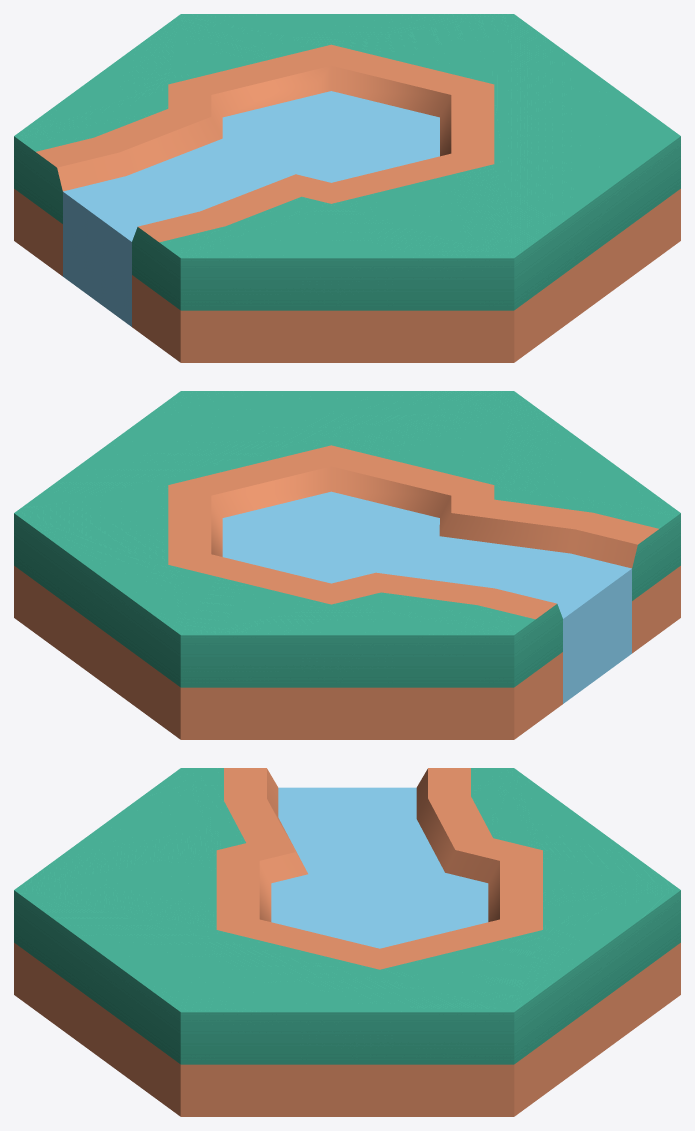
Rendered from river-start.glb.
3 renders of one model, top to bottom at view 1: azimuth 30°, elevation 25°; view 2: azimuth 150°, elevation 25°; view 3: azimuth 270°, elevation 25°, orthographic.
Parts seen in each view (by area): view 1: river-start; view 2: river-start; view 3: river-start.
Boxes of the visible parts, x1,y1,x2,y2 form: river-start: [14, 14, 680, 362]; river-start: [14, 391, 680, 739]; river-start: [14, 768, 680, 1116].
Size of the model in its own units: 1 by 0.2 by 1.15.
Materials: 1 (1 with a texture image).
